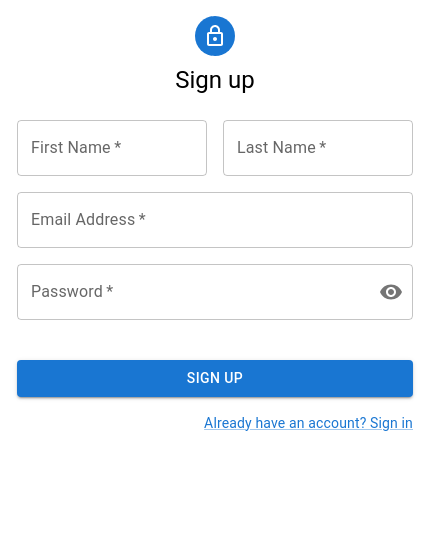
Test case: <SignUp /> › Form validation › When submitting invalid password › When password is less than 8 characters › Password is validated & error message is rendered
Type "Pass1$" into the password field labelled "Password *".
click(190, 292); type("Pass1$")  # box [17,264,363,320]
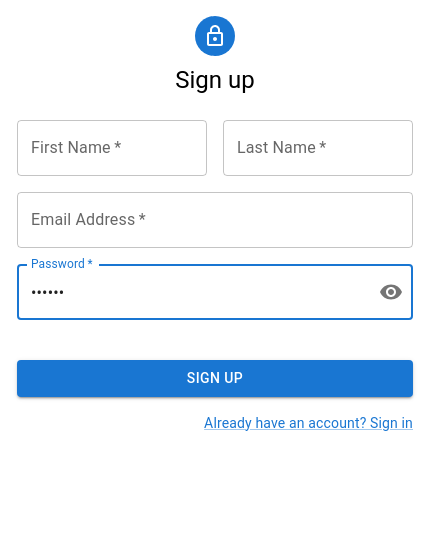
Click the button "Sign Up".
click(215, 378)  # box [17,360,413,396]
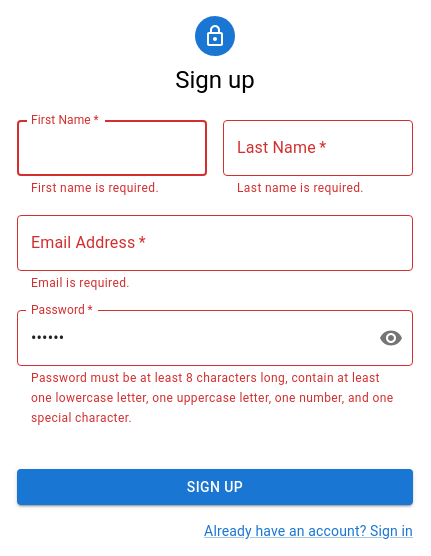
Now the text "Password must be at least 8 characters long, contain at least one lowercase letter, one uppercase letter, one number, an" is shown, box [31,371,394,425]
